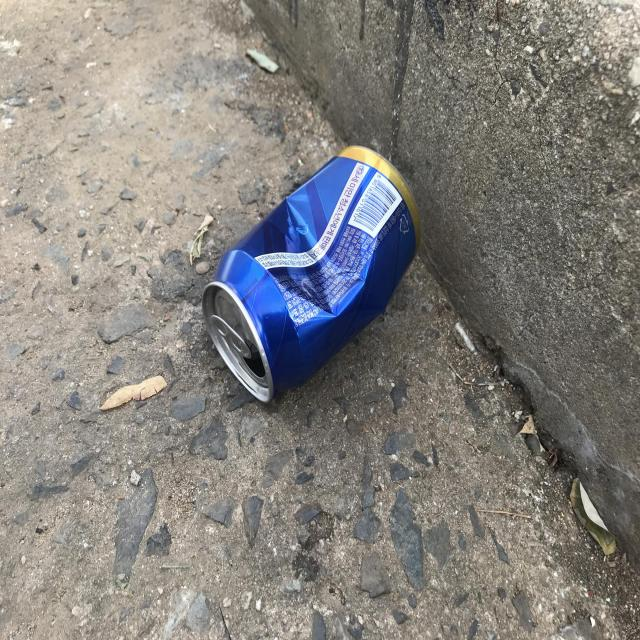can: (202, 146, 420, 402)
